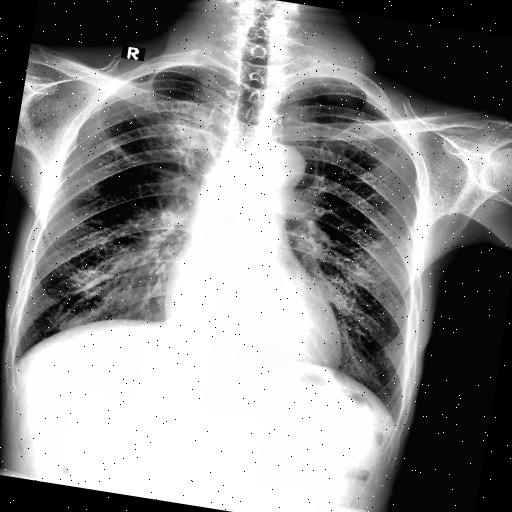0- Aortic enlargement: (242, 136, 310, 199)
13- Pulmonary fibrosis: (132, 88, 228, 176), (149, 96, 215, 164)
6- Infiltration: (149, 96, 215, 164)
7- Lung Opacity: (167, 100, 210, 152)
